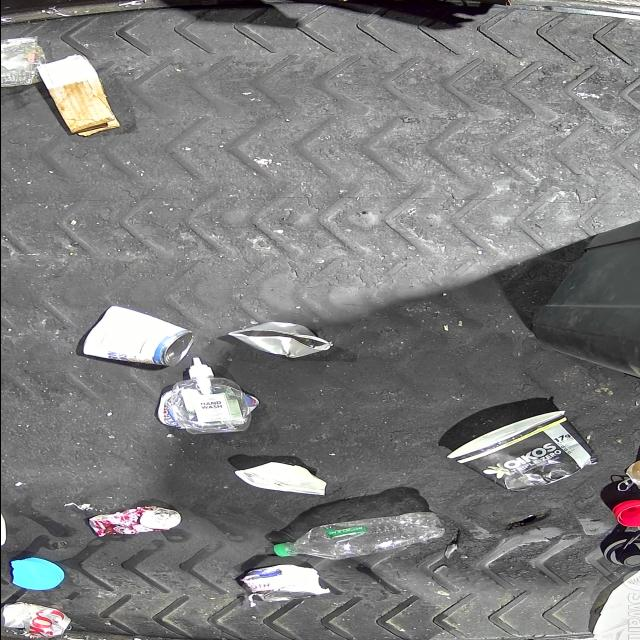can: (80, 304, 196, 368), (227, 321, 333, 358), (86, 506, 180, 538), (242, 564, 322, 600), (0, 602, 74, 640)
milk_jug: (592, 562, 640, 640)
plastic_bottle: (272, 512, 444, 560)
